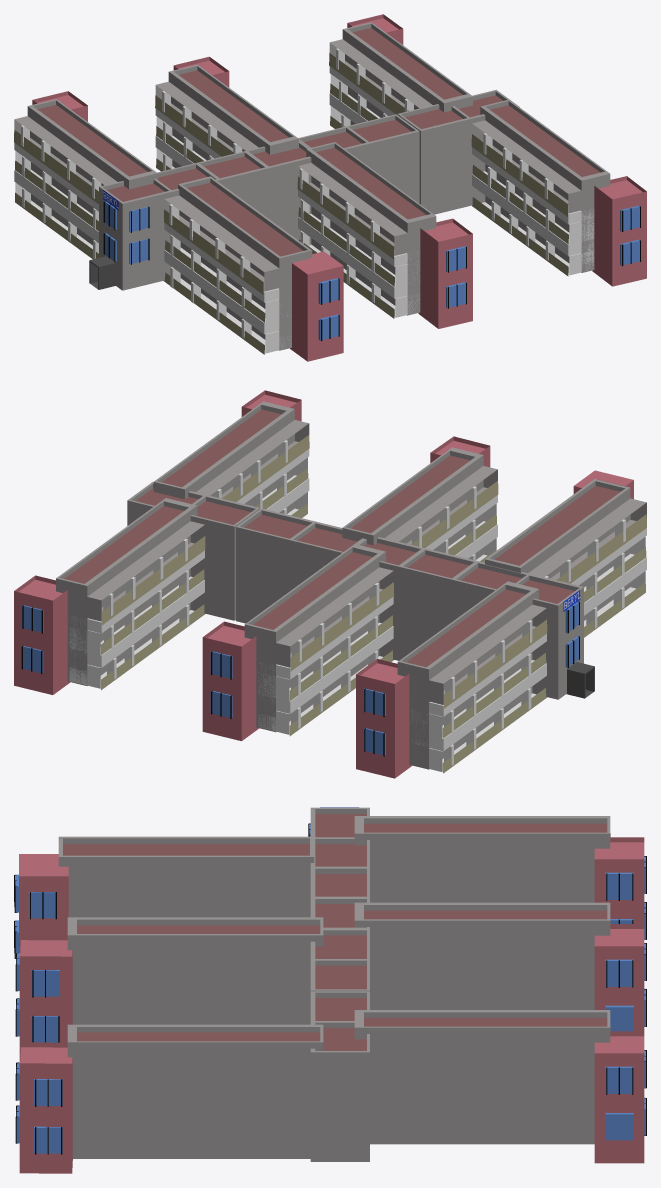
File: long_hostel.glb
The picture shows the model from 3 angles, top to bottom: view 1: azimuth 30°, elevation 25°; view 2: azimuth 150°, elevation 25°; view 3: azimuth 270°, elevation 25°; orthographic projection. The views are drawn at different scales.
Visible parts, largest first — view 1: Cube.002, Cube.101, Cube.155, Cube.132, Cube, Cube.001, Cube.072, Cube.134, Cube.119, Cube.165, Cube.003, Cube.131 (+41 smaller); view 2: Cube.001, Cube.072, Cube.134, Cube.002, Cube.131, Cube.155, Cube.101, Cube.070, Cube.090, Cube.148, Cube.040, Cube.132 (+46 smaller); view 3: Cube.155, Cube.134, Cube.101, Cube.072, Cube.001, Cube.002, Cube.133, Cube.165, Cube.148, Cube.119, Cube.090, Cube.003 (+18 smaller).
Boxes of the visible parts, bbox=[...] form: Cube.002: bbox=[178, 176, 312, 350]; Cube.101: bbox=[306, 142, 436, 315]; Cube.155: bbox=[480, 99, 610, 272]; Cube.132: bbox=[397, 104, 471, 214]; Cube: bbox=[99, 179, 173, 290]; Cube.001: bbox=[27, 99, 157, 245]; Cube.072: bbox=[168, 64, 298, 167]; Cube.134: bbox=[342, 22, 472, 124]; Cube.119: bbox=[418, 218, 472, 328]; Cube.165: bbox=[592, 176, 646, 286]; Cube.003: bbox=[290, 251, 343, 361]; Cube.131: bbox=[347, 114, 419, 203]; Cube.001: bbox=[397, 581, 538, 769]; Cube.072: bbox=[244, 544, 385, 732]; Cube.134: bbox=[56, 498, 197, 685]; Cube.002: bbox=[485, 479, 630, 620]; Cube.131: bbox=[236, 508, 315, 623]; Cube.155: bbox=[153, 401, 294, 513]; Cube.101: bbox=[342, 447, 483, 559]; Cube.070: bbox=[399, 548, 478, 659]; Cube.090: bbox=[202, 621, 258, 741]; Cube.148: bbox=[14, 575, 70, 694]; Cube.040: bbox=[356, 659, 411, 778]; Cube.132: bbox=[190, 494, 260, 620]; Cube.155: bbox=[67, 1024, 323, 1158]; Cube.134: bbox=[354, 1010, 610, 1144]; Cube.101: bbox=[67, 917, 323, 1024]; Cube.072: bbox=[354, 902, 610, 1009]; Cube.001: bbox=[354, 816, 610, 902]; Cube.002: bbox=[58, 836, 314, 917]; Cube.133: bbox=[310, 1021, 369, 1161]; Cube.165: bbox=[19, 1042, 72, 1173]; Cube.148: bbox=[594, 1031, 644, 1163]; Cube.119: bbox=[19, 935, 72, 1061]; Cube.090: bbox=[594, 924, 644, 1031]; Cube.003: bbox=[19, 854, 68, 952].
Bounding box in the file's own units: 31.71 × 6.73 × 32.14.
